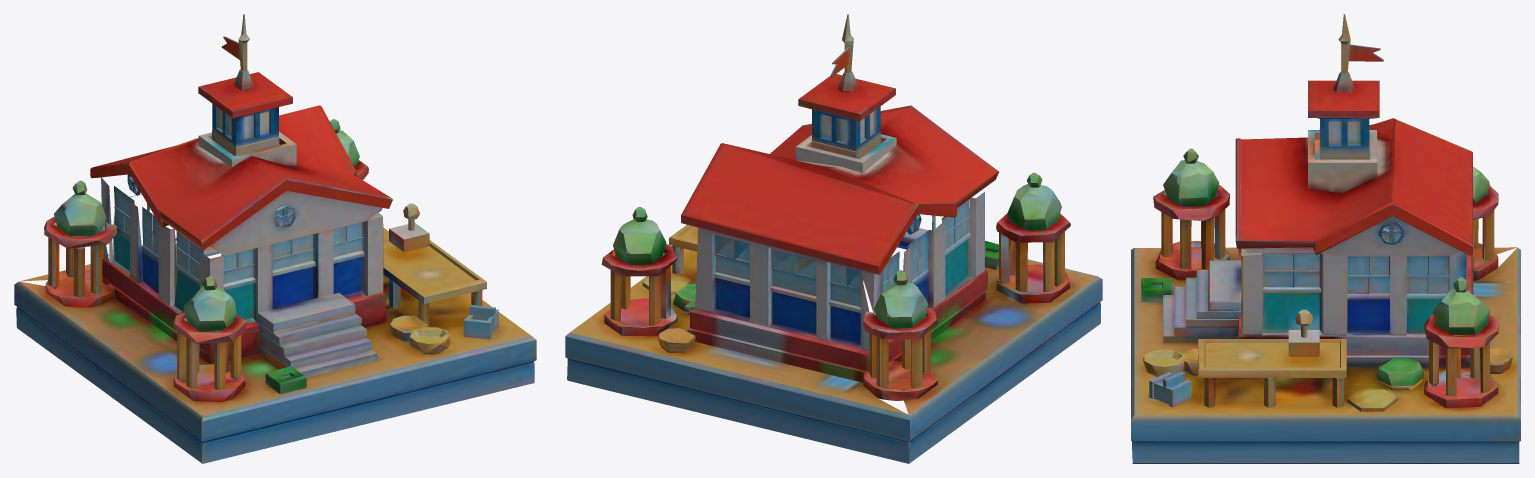
The model's file is sekolah_1_lod2.glb.
The picture shows the model from 3 angles, left to right: view 1: azimuth 30°, elevation 25°; view 2: azimuth 150°, elevation 25°; view 3: azimuth 270°, elevation 25°; orthographic projection. The views are drawn at different scales.
Visible parts, largest first — view 1: tripo_node_12f3e3c3; view 2: tripo_node_12f3e3c3; view 3: tripo_node_12f3e3c3.
Part boxes in pixels (box(x1,y1,x2,y2)): tripo_node_12f3e3c3: box(14, 14, 536, 463); tripo_node_12f3e3c3: box(565, 14, 1102, 463); tripo_node_12f3e3c3: box(1131, 14, 1520, 463).
Bounding box in the file's own units: 1 × 0.9711 × 0.9692.
Materials: 1 (1 with a texture image).
